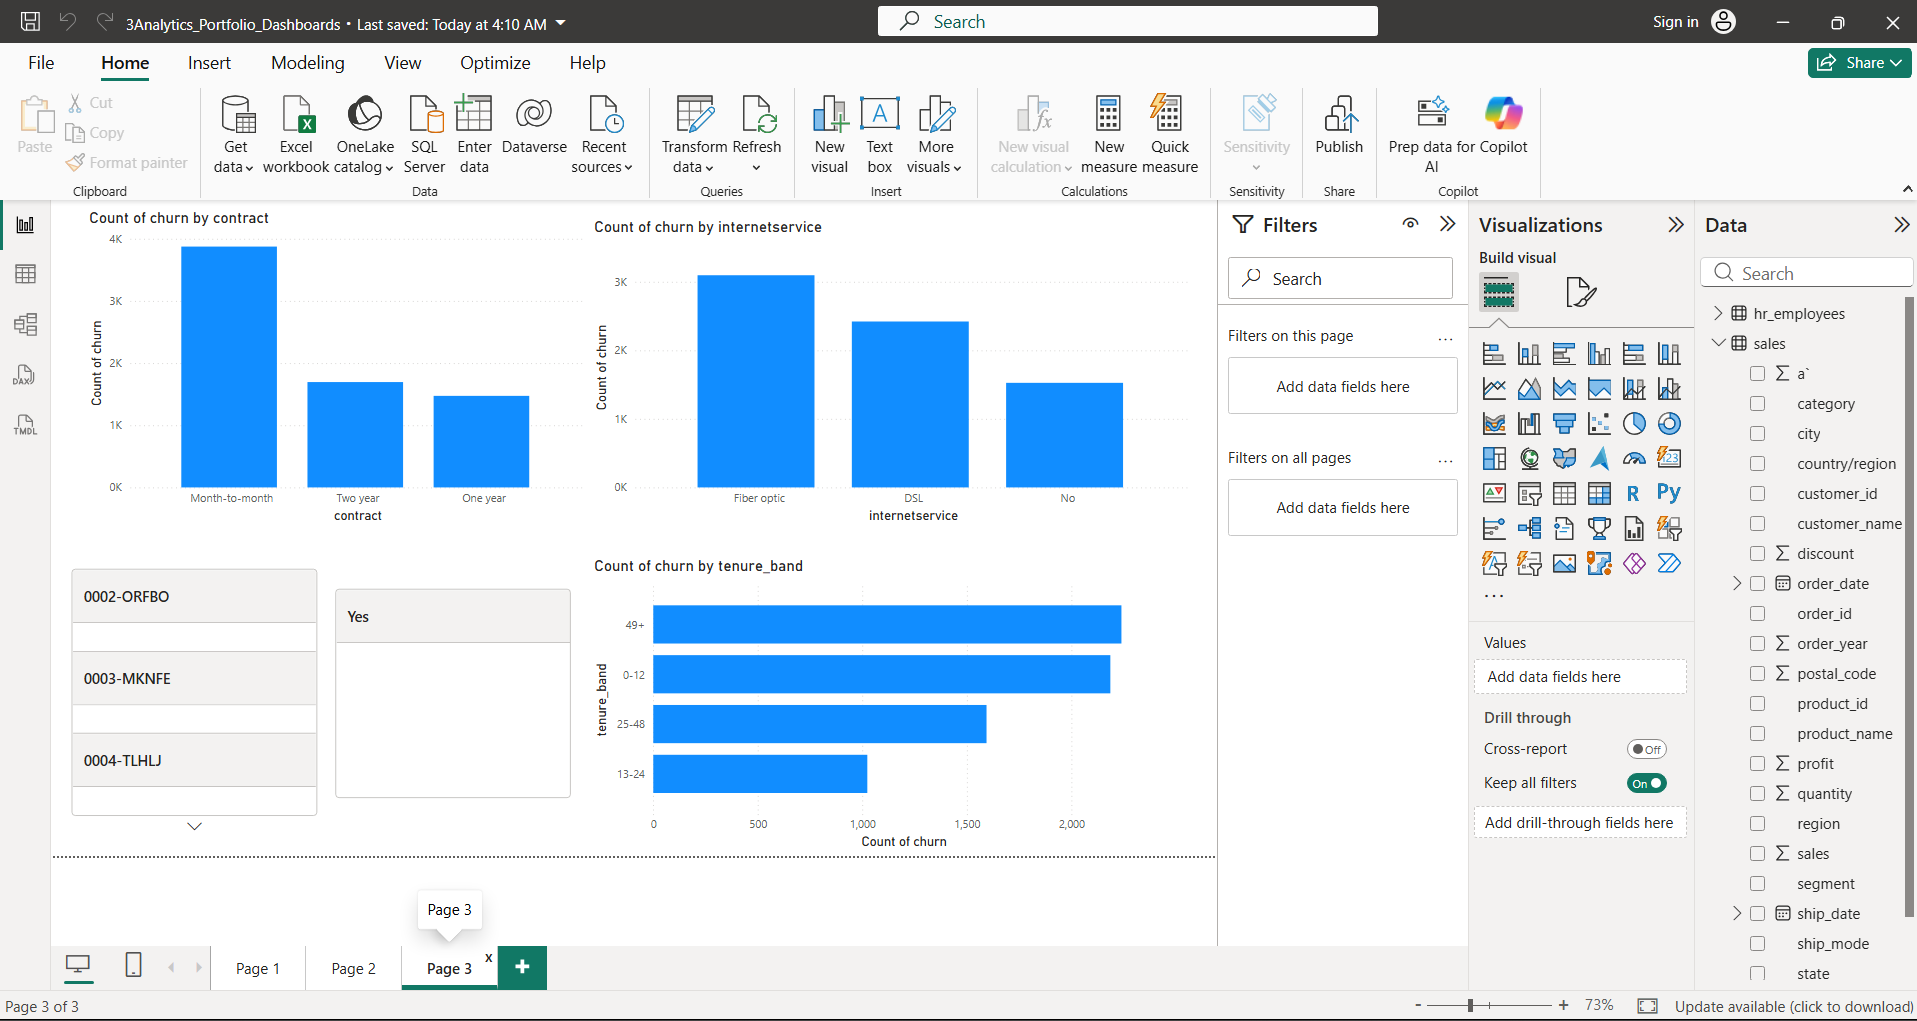

Layout of this report page (visuals, bound fields, positions):
{"tool":"powerbi","page":{"name":"Page 3","canvas":[1280,720],"ordinal":2},"visuals":[{"type":"cardVisual","fields":{"Rows":["telco_customers.customerid"]},"box":[17.8,380.1,279.9,323.8],"z":0},{"type":"cardVisual","fields":{"Rows":["telco_customers.churn"]},"box":[307.4,402.1,269,279.9],"z":1},{"type":"clusteredColumnChart","fields":{"Category":["telco_customers.contract"],"Y":["CountNonNull(telco_customers.churn)"]},"box":[37,9.6,554.4,349.9],"z":2},{"type":"clusteredBarChart","fields":{"Category":["telco_customers.tenure_band"],"Y":["CountNonNull(telco_customers.churn)"]},"box":[591.4,391.1,640.8,326.6],"z":3},{"type":"clusteredColumnChart","fields":{"Category":["telco_customers.internetservice"],"Y":["CountNonNull(telco_customers.churn)"]},"box":[591.4,19.2,665.5,340.3],"z":4}]}

Visuals, with their boxes on the page's 1280x720 design canvas (x1, y1, x2, y2). These are canvas units, not pixel positions in the 1917x1021 screenshot, which may show the page scaled, cropped or inside an application window:
cardVisual - telco_customers.customerid: <region>18, 380, 298, 704</region>
cardVisual - telco_customers.churn: <region>307, 402, 576, 682</region>
clusteredColumnChart - telco_customers.contract x CountNonNull(telco_customers.churn): <region>37, 10, 591, 360</region>
clusteredBarChart - telco_customers.tenure_band x CountNonNull(telco_customers.churn): <region>591, 391, 1232, 718</region>
clusteredColumnChart - telco_customers.internetservice x CountNonNull(telco_customers.churn): <region>591, 19, 1257, 360</region>
